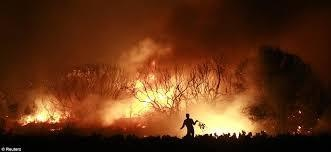fire: (125, 73, 177, 116), (195, 112, 255, 138), (16, 99, 68, 126)
